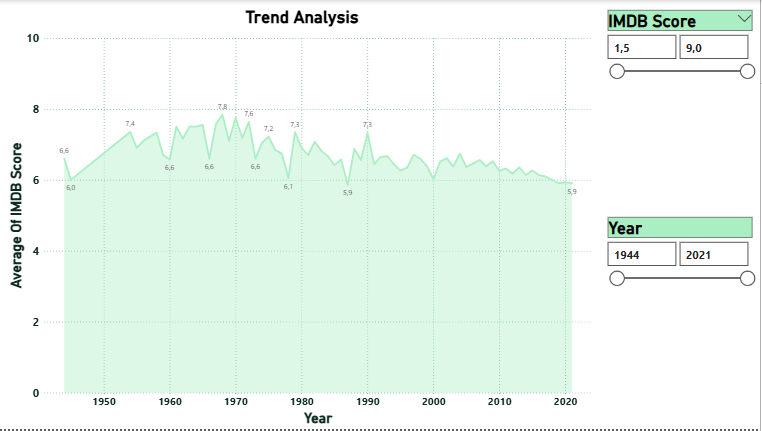

What the dashboard file says about the page in this screenshot:
{"tool":"powerbi","page":{"name":"Page 5","canvas":[1280,720],"ordinal":4},"visuals":[{"type":"areaChart","title":"Trend Analysis","fields":{"Category":["netflix_imdb_merged.year"],"Y":["Avg(netflix_imdb_merged.imdb_score)"]},"box":[10.1,11.8,1001.2,708.9],"z":0},{"type":"slicer","fields":{"Values":["netflix_imdb_merged.year"]},"box":[1011.2,359.5,268.8,359.5],"z":1000},{"type":"slicer","fields":{"Values":["netflix_imdb_merged.imdb_score"]},"box":[1011.2,11.8,268.8,241.9],"z":2000}]}

Visuals, with their boxes in screenshot pixels (x1, y1, x2, y2), scaled from the page's 1280x720 canvas onto the 762x431 screenshot:
"Trend Analysis" areaChart: crop(6, 7, 602, 430)
slicer - netflix_imdb_merged.year: crop(602, 215, 761, 430)
slicer - netflix_imdb_merged.imdb_score: crop(602, 7, 761, 152)
